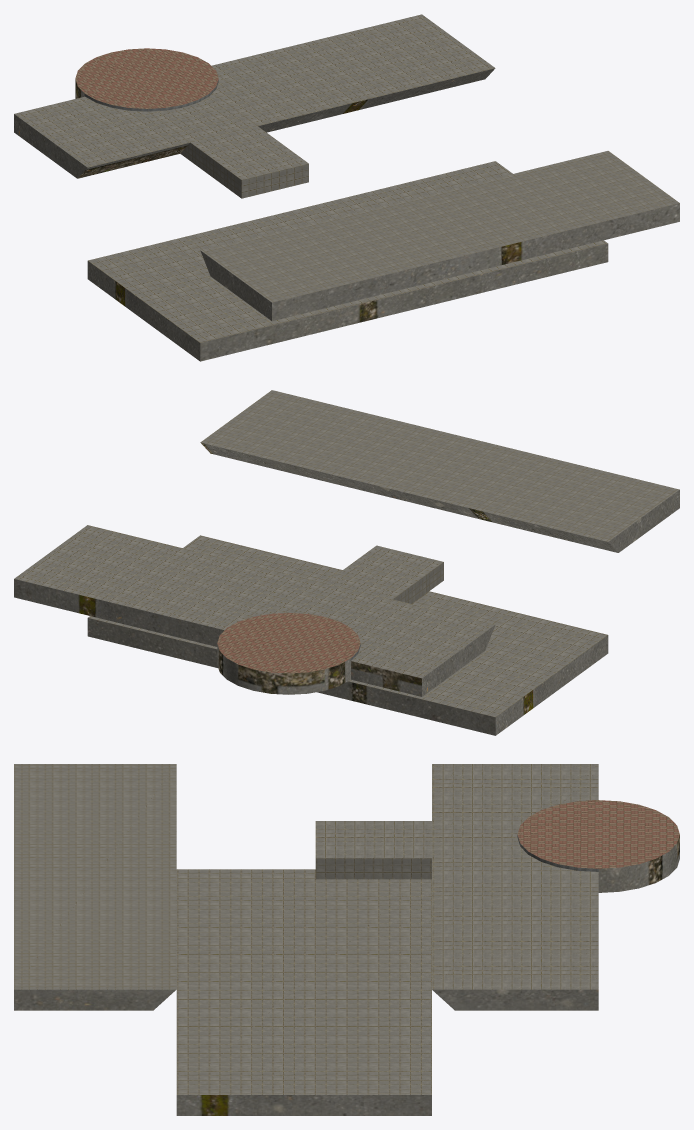
File: scene_floor.obj
3 views of the same model, one above another, from view 1: azimuth 30°, elevation 25°; view 2: azimuth 150°, elevation 25°; view 3: azimuth 270°, elevation 25° (orthographic). The views are drawn at different scales.
Parts seen in each view (by area): view 1: Floor_Floor_floor, Floor_Floor_brick_floor; view 2: Floor_Floor_floor, Floor_Floor_brick_floor; view 3: Floor_Floor_floor, Floor_Floor_brick_floor.
Boxes of the visible parts, box(x1,y1,x2,y2) form: Floor_Floor_floor: box(14, 14, 679, 361); Floor_Floor_brick_floor: box(75, 48, 218, 108); Floor_Floor_floor: box(14, 390, 679, 735); Floor_Floor_brick_floor: box(217, 613, 360, 673); Floor_Floor_floor: box(14, 764, 679, 1115); Floor_Floor_brick_floor: box(517, 800, 679, 868).
Size of the model in its own units: 23 by 6.15 by 28.69.
